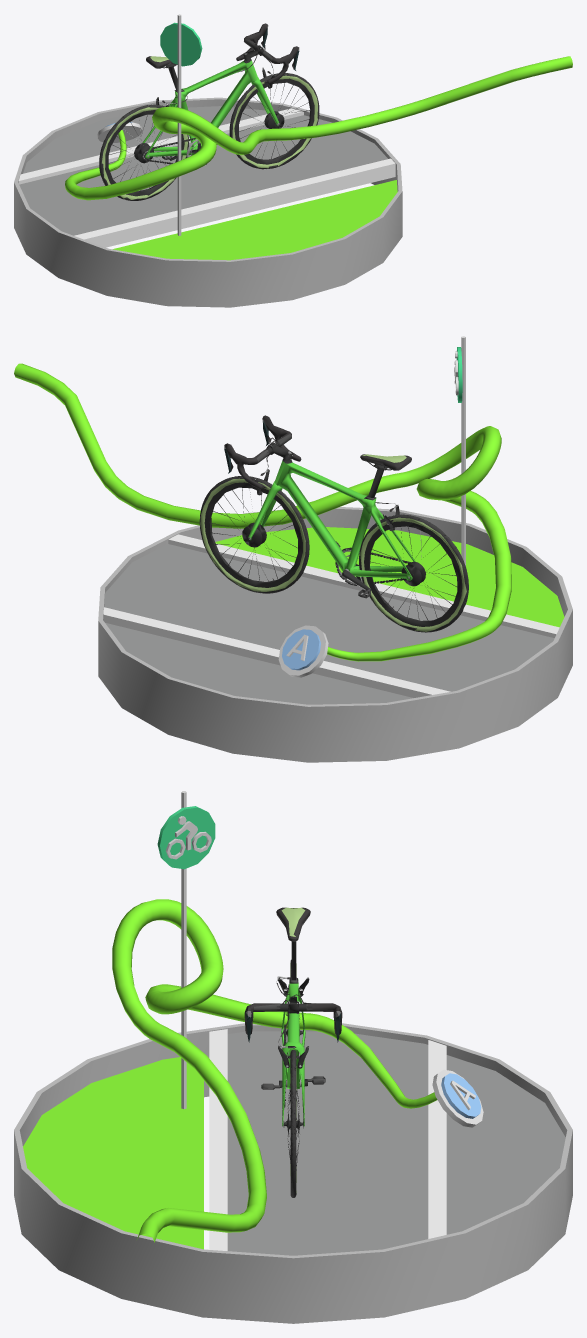
3 views of the same model, one above another, from view 1: azimuth 30°, elevation 25°; view 2: azimuth 150°, elevation 25°; view 3: azimuth 270°, elevation 25° (orthographic). The views are drawn at different scales.
Parts seen in each view (by area): view 1: Tube, Cylinder.4-Mat.7, Cylinder.4-AppE35, Sweep, Cylinder.4-Concrete, bike-metal.black (×2), bike-orange.metal (×2), bike-wheel.orange, Cylinder.4-Mat.6, bike-wheel.black, bike-seat.skin, Cylinder.4-Metal (+1 smaller); view 2: Cylinder.4-Mat.7, Tube, Sweep, Cylinder.4-AppE35, Cylinder.4-Concrete, bike-metal.black (×2), bike-orange.metal (×3), bike-wheel.orange, bike-wheel.black, bike-seat.skin, point a-Mat.5, point a-Mat.4 (+1 smaller); view 3: Cylinder.4-Mat.7, Tube, Cylinder.4-AppE35, Sweep, Cylinder.4-Concrete, Cylinder.4-Mat.6, Cylinder.4-Metal, bike-metal.black, point a-Mat.5, bike-seat.skin, bike-wheel.black, point a-Mat.4 (+2 smaller).
Part boxes in pixels (x1,y1,x2,y2): Tube: (14, 97, 402, 307); Cylinder.4-Mat.7: (19, 106, 387, 235); Cylinder.4-AppE35: (113, 180, 397, 260); Sweep: (65, 56, 572, 200); Cylinder.4-Concrete: (18, 108, 395, 247); bike-metal.black (×2): (105, 28, 314, 196); bike-orange.metal (×2): (142, 60, 257, 158); bike-wheel.orange: (102, 56, 317, 199); Cylinder.4-Mat.6: (160, 22, 202, 66); bike-wheel.black: (99, 73, 319, 200); bike-seat.skin: (100, 23, 319, 200); Cylinder.4-Metal: (177, 14, 181, 235); Cylinder.4-Mat.7: (104, 544, 554, 704); Tube: (98, 507, 572, 762); Sweep: (14, 363, 511, 661); Cylinder.4-AppE35: (215, 527, 564, 627); Cylinder.4-Concrete: (103, 534, 559, 697); bike-metal.black (×2): (204, 422, 462, 626); bike-orange.metal (×3): (248, 459, 415, 580); bike-wheel.orange: (200, 454, 466, 631); bike-wheel.black: (199, 476, 468, 632); bike-seat.skin: (199, 415, 467, 632); point a-Mat.5: (278, 625, 328, 677); point a-Mat.4: (282, 629, 320, 670); Cylinder.4-Mat.7: (227, 1031, 565, 1255); Tube: (14, 1023, 572, 1323); Cylinder.4-AppE35: (23, 1057, 203, 1249); Sweep: (112, 899, 437, 1242); Cylinder.4-Concrete: (209, 1029, 446, 1250); Cylinder.4-Mat.6: (157, 806, 215, 869); Cylinder.4-Metal: (181, 791, 186, 1109); bike-metal.black: (245, 941, 341, 1166); point a-Mat.5: (432, 1069, 483, 1127); bike-seat.skin: (244, 959, 342, 1196); bike-wheel.black: (290, 960, 296, 1197); point a-Mat.4: (441, 1073, 481, 1118).
Size of the model in its own units: 22.71 by 11.58 by 16.03.
